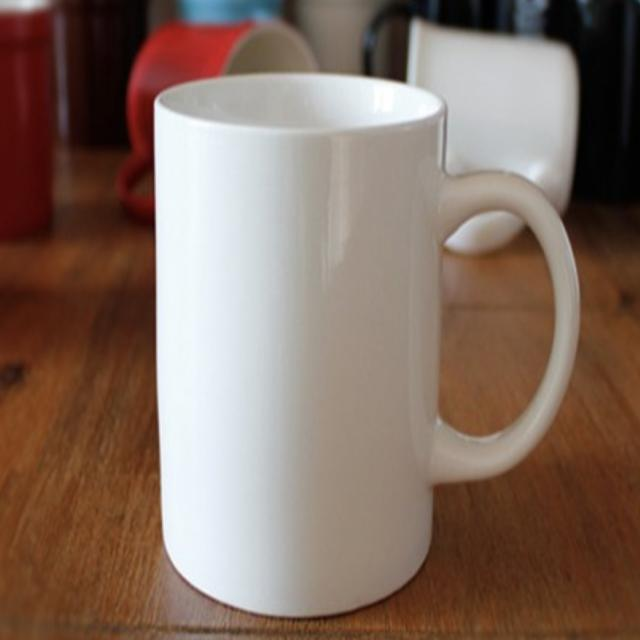recyclable: (140, 54, 598, 627)
